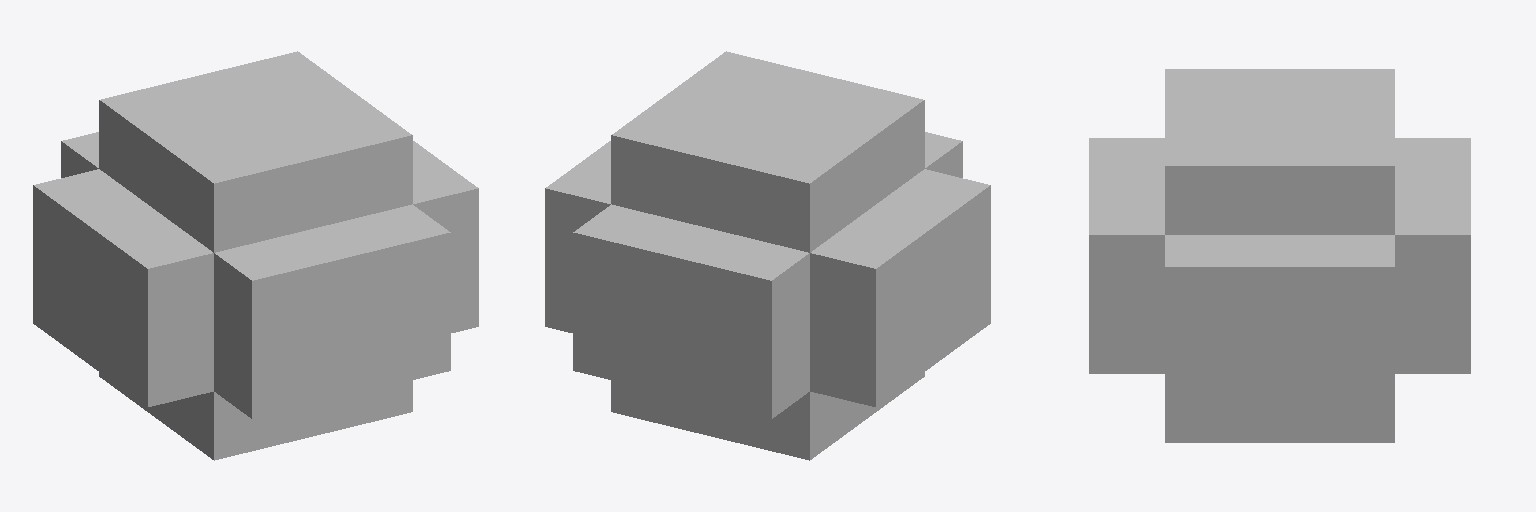
The model's file is player-2.obj.
The picture shows the model from 3 angles: view 1: azimuth 30°, elevation 25°; view 2: azimuth 150°, elevation 25°; view 3: azimuth 270°, elevation 25°; orthographic projection.
Visible parts, largest first — view 1: object 1; view 2: object 1; view 3: object 1.
Part boxes in pixels (x1,y1,x2,y2): object 1: (33, 51, 478, 460); object 1: (545, 51, 990, 460); object 1: (1089, 69, 1470, 442).
Bounding box in the file's own units: 0.5 × 0.4 × 0.5.